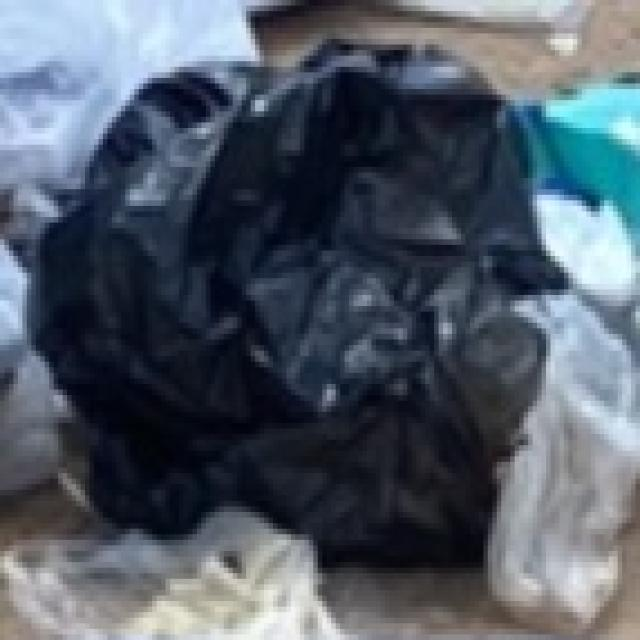plastic bag: (31, 0, 640, 557)
